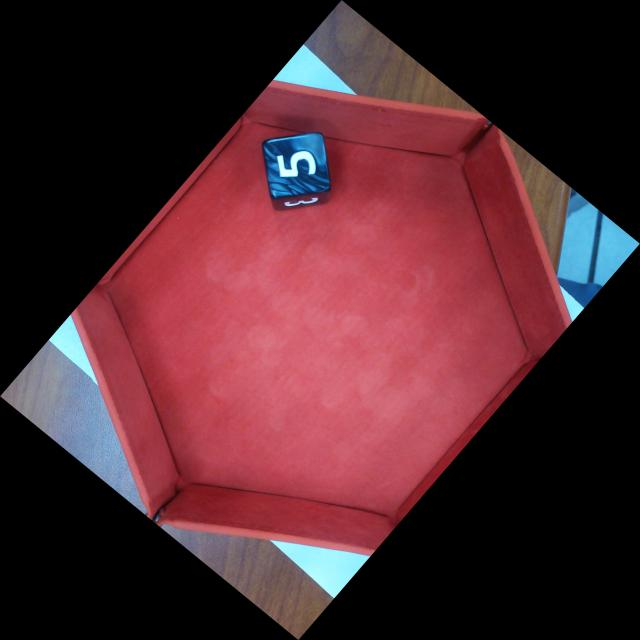dice: (260, 129, 335, 201)
